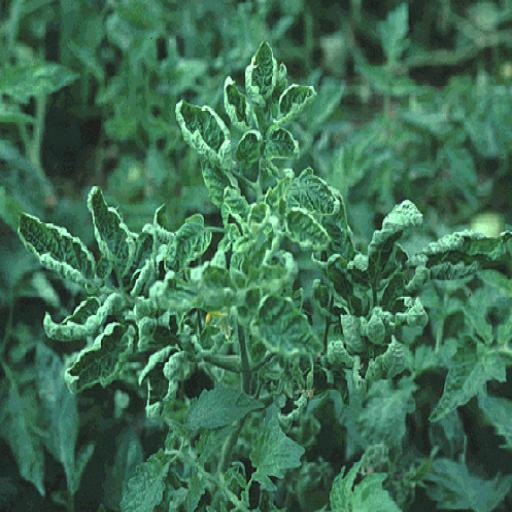Yellow Leaf Curl Virus: (14, 207, 108, 301), (248, 287, 332, 371), (64, 320, 142, 400), (85, 174, 131, 270), (288, 165, 350, 236), (40, 296, 120, 346), (174, 100, 235, 158), (243, 34, 279, 132), (285, 209, 336, 265), (272, 82, 318, 126)
